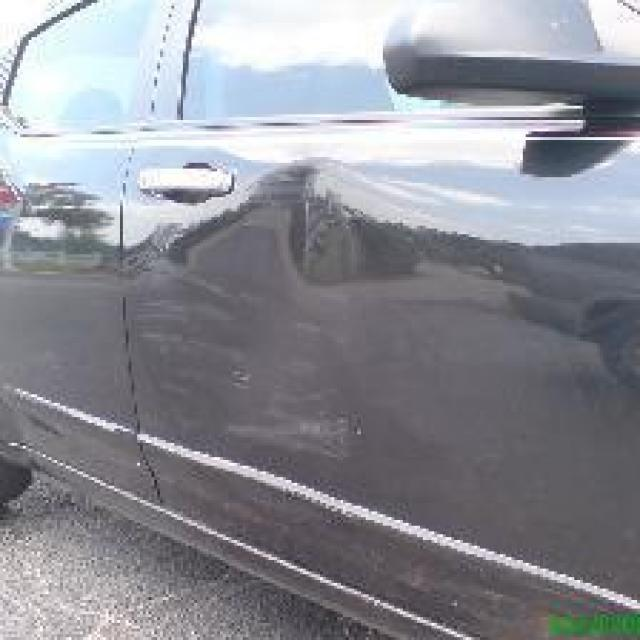damaged: (128, 160, 518, 486)
